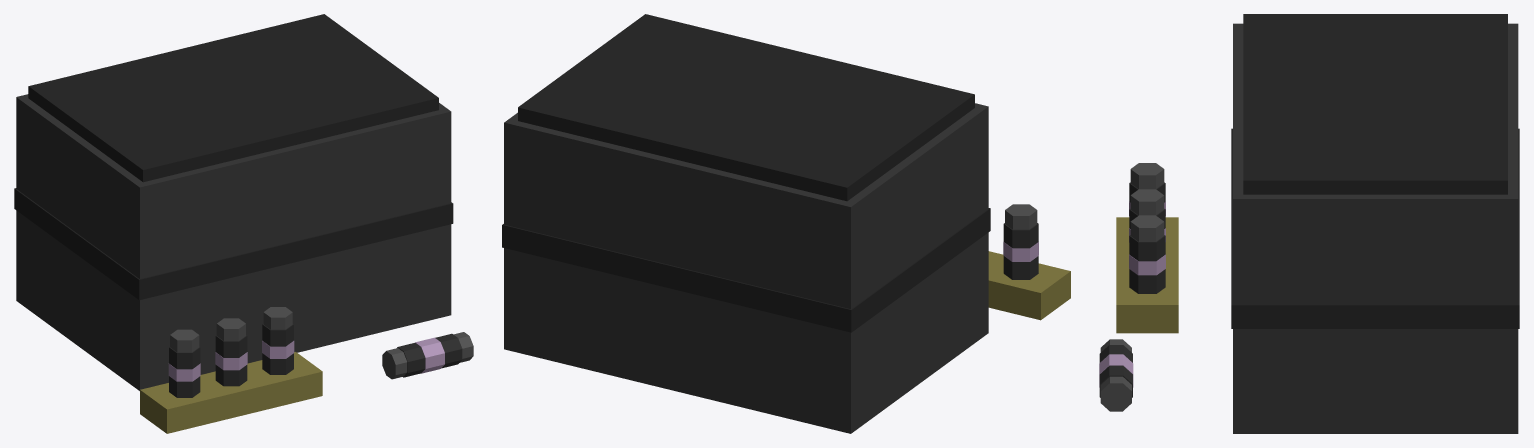
Rendered from ce_ammo2_fuel30_thermo_c.obj.
The picture shows the model from 3 angles, left to right: view 1: azimuth 30°, elevation 25°; view 2: azimuth 150°, elevation 25°; view 3: azimuth 270°, elevation 25°; orthographic projection. The views are drawn at different scales.
Parts seen in each view (by area): view 1: ce_ammo2_fuel30_thermo_c_0, ce_ammo2_fuel30_thermo_c_1, ce_ammo2_fuel30_thermo_c_2, ce_ammo2_fuel30_thermo_c_3, ce_ammo2_fuel30_thermo_c_18, ce_ammo2_fuel30_thermo_c_16, ce_ammo2_fuel30_thermo_c_7, ce_ammo2_fuel30_thermo_c_11, ce_ammo2_fuel30_thermo_c_17, ce_ammo2_fuel30_thermo_c_15, ce_ammo2_fuel30_thermo_c_19, ce_ammo2_fuel30_thermo_c_6 (+5 smaller); view 2: ce_ammo2_fuel30_thermo_c_0, ce_ammo2_fuel30_thermo_c_1, ce_ammo2_fuel30_thermo_c_2, ce_ammo2_fuel30_thermo_c_3, ce_ammo2_fuel30_thermo_c_7, ce_ammo2_fuel30_thermo_c_6, ce_ammo2_fuel30_thermo_c_4; view 3: ce_ammo2_fuel30_thermo_c_0, ce_ammo2_fuel30_thermo_c_1, ce_ammo2_fuel30_thermo_c_2, ce_ammo2_fuel30_thermo_c_3, ce_ammo2_fuel30_thermo_c_20, ce_ammo2_fuel30_thermo_c_11, ce_ammo2_fuel30_thermo_c_7, ce_ammo2_fuel30_thermo_c_15, ce_ammo2_fuel30_thermo_c_14, ce_ammo2_fuel30_thermo_c_12, ce_ammo2_fuel30_thermo_c_13, ce_ammo2_fuel30_thermo_c_18 (+1 smaller).
Boxes of the visible parts, left/top/right/bottom form: ce_ammo2_fuel30_thermo_c_0: left=16, top=94, right=451, bottom=390; ce_ammo2_fuel30_thermo_c_1: left=28, top=14, right=438, bottom=182; ce_ammo2_fuel30_thermo_c_2: left=14, top=188, right=453, bottom=300; ce_ammo2_fuel30_thermo_c_3: left=140, top=352, right=322, bottom=433; ce_ammo2_fuel30_thermo_c_18: left=415, top=337, right=444, bottom=373; ce_ammo2_fuel30_thermo_c_16: left=382, top=348, right=407, bottom=379; ce_ammo2_fuel30_thermo_c_7: left=170, top=329, right=199, bottom=352; ce_ammo2_fuel30_thermo_c_11: left=216, top=318, right=245, bottom=341; ce_ammo2_fuel30_thermo_c_17: left=397, top=343, right=425, bottom=377; ce_ammo2_fuel30_thermo_c_15: left=263, top=307, right=292, bottom=329; ce_ammo2_fuel30_thermo_c_19: left=435, top=333, right=462, bottom=368; ce_ammo2_fuel30_thermo_c_6: left=169, top=346, right=200, bottom=369; ce_ammo2_fuel30_thermo_c_0: left=504, top=103, right=988, bottom=433; ce_ammo2_fuel30_thermo_c_1: left=518, top=14, right=974, bottom=201; ce_ammo2_fuel30_thermo_c_2: left=502, top=208, right=990, bottom=332; ce_ammo2_fuel30_thermo_c_3: left=988, top=251, right=1070, bottom=320; ce_ammo2_fuel30_thermo_c_7: left=1005, top=204, right=1037, bottom=229; ce_ammo2_fuel30_thermo_c_6: left=1003, top=223, right=1038, bottom=248; ce_ammo2_fuel30_thermo_c_4: left=1003, top=256, right=1038, bottom=279; ce_ammo2_fuel30_thermo_c_0: left=1233, top=23, right=1518, bottom=433; ce_ammo2_fuel30_thermo_c_1: left=1243, top=14, right=1507, bottom=194; ce_ammo2_fuel30_thermo_c_2: left=1231, top=128, right=1519, bottom=328; ce_ammo2_fuel30_thermo_c_3: left=1116, top=217, right=1178, bottom=333; ce_ammo2_fuel30_thermo_c_20: left=1100, top=376, right=1131, bottom=411; ce_ammo2_fuel30_thermo_c_11: left=1130, top=189, right=1164, bottom=215; ce_ammo2_fuel30_thermo_c_7: left=1130, top=163, right=1164, bottom=189; ce_ammo2_fuel30_thermo_c_15: left=1130, top=215, right=1164, bottom=241; ce_ammo2_fuel30_thermo_c_14: left=1129, top=235, right=1165, bottom=261; ce_ammo2_fuel30_thermo_c_12: left=1129, top=269, right=1165, bottom=293; ce_ammo2_fuel30_thermo_c_13: left=1129, top=254, right=1165, bottom=275; ce_ammo2_fuel30_thermo_c_18: left=1099, top=354, right=1133, bottom=387.
Bounding box in the file's own units: 0.863 × 0.53 × 0.811.
